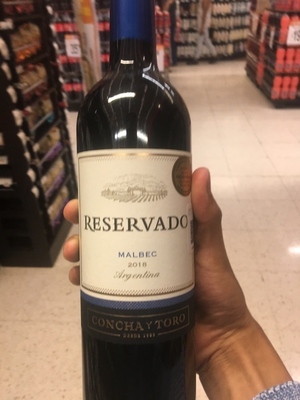reservado malbec: (71, 11, 202, 400)
